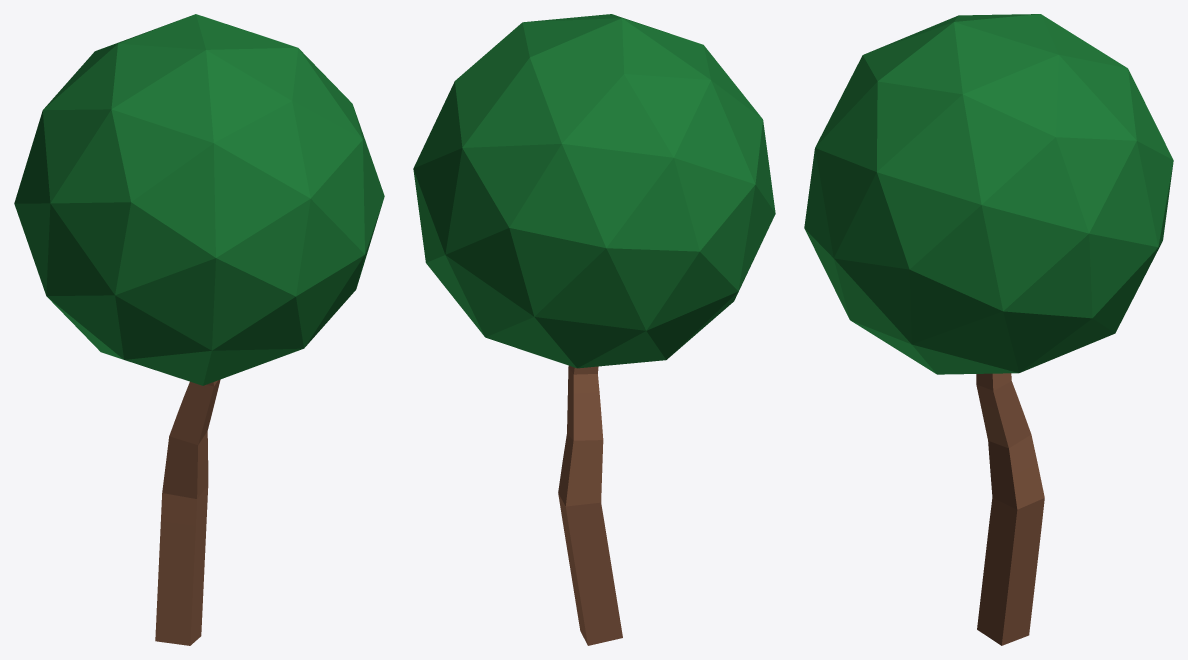
The model's file is tree_little.glb.
The picture shows the model from 3 angles, left to right: view 1: azimuth 30°, elevation 25°; view 2: azimuth 150°, elevation 25°; view 3: azimuth 270°, elevation 25°; orthographic projection. The views are drawn at different scales.
Parts seen in each view (by area): view 1: Icosphere, Cube; view 2: Icosphere, Cube; view 3: Icosphere, Cube.
Boxes of the visible parts, left/top/right/bottom form: Icosphere: left=14, top=14, right=384, bottom=385; Cube: left=155, top=379, right=220, bottom=645; Icosphere: left=413, top=14, right=775, bottom=368; Cube: left=558, top=365, right=622, bottom=645; Icosphere: left=804, top=14, right=1173, bottom=374; Cube: left=976, top=373, right=1044, bottom=645.
Size of the model in its own units: 6.5 by 12.11 by 6.59.
